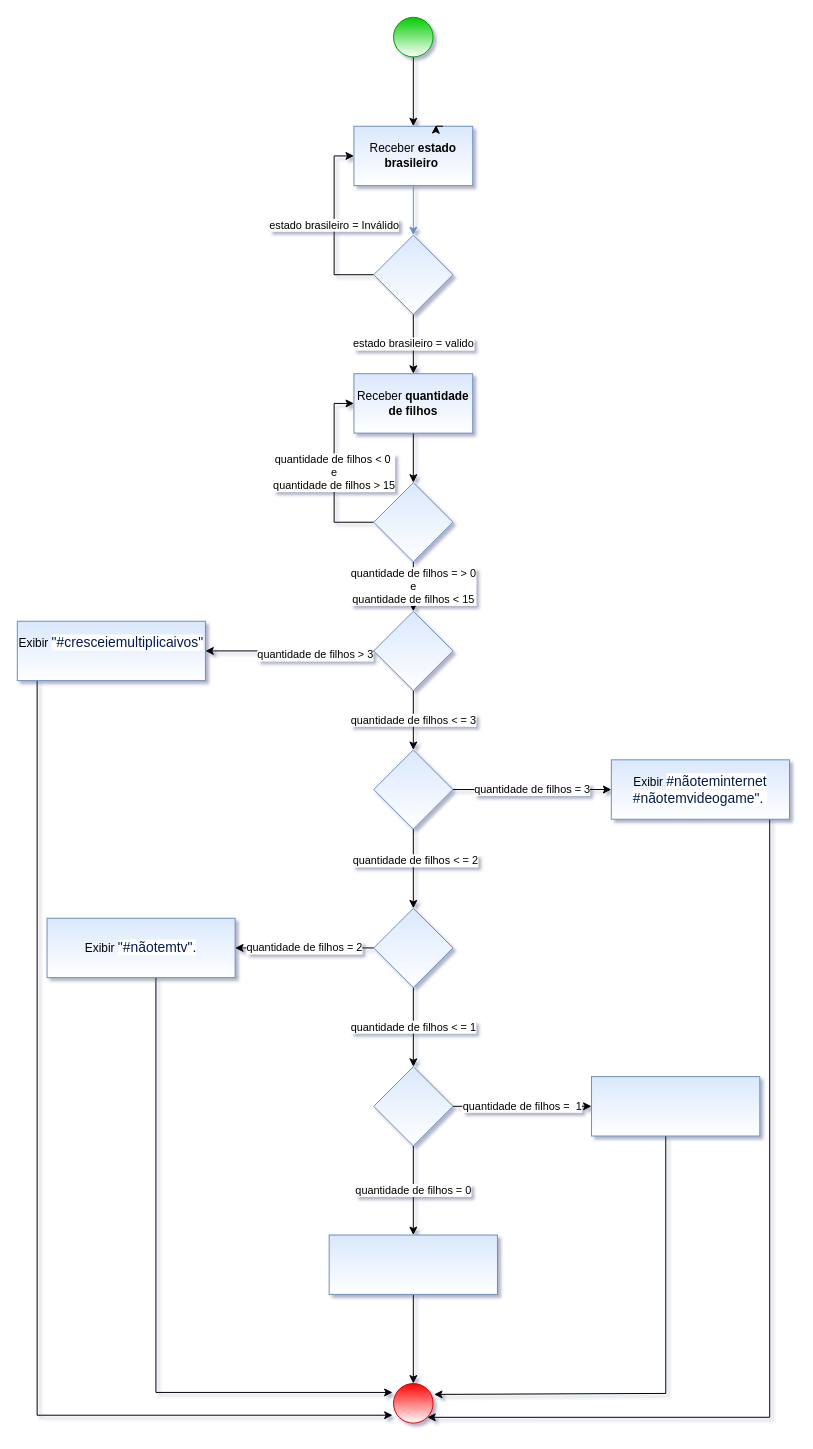
The diagram is 813 pixels wide and 1449 high, and some of its shapes have lost their labels. Each missing label, with the box of its shape:
Exibir "#nãotemvideogame".: (591, 1076, 760, 1136)
Exibir "#tv #internet #videogame": (328, 1234, 497, 1294)
